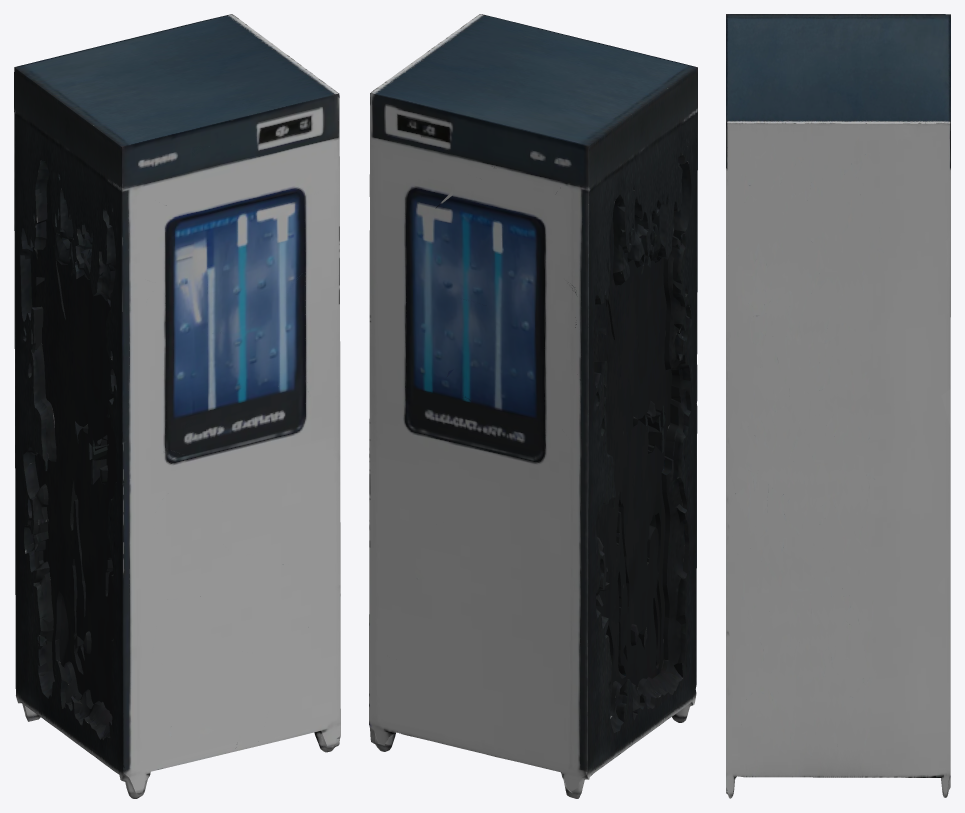
3 renders of one model, left to right at view 1: azimuth 30°, elevation 25°; view 2: azimuth 150°, elevation 25°; view 3: azimuth 270°, elevation 25°, orthographic. The views are drawn at different scales.
Size of the model in its own units: 0.6999 by 2 by 0.6.
1 material, 1 textured.
